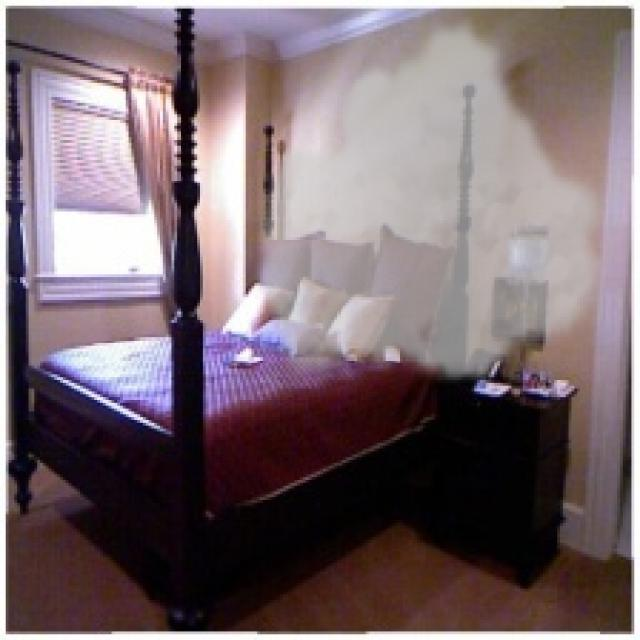smoke: (252, 11, 614, 386)
